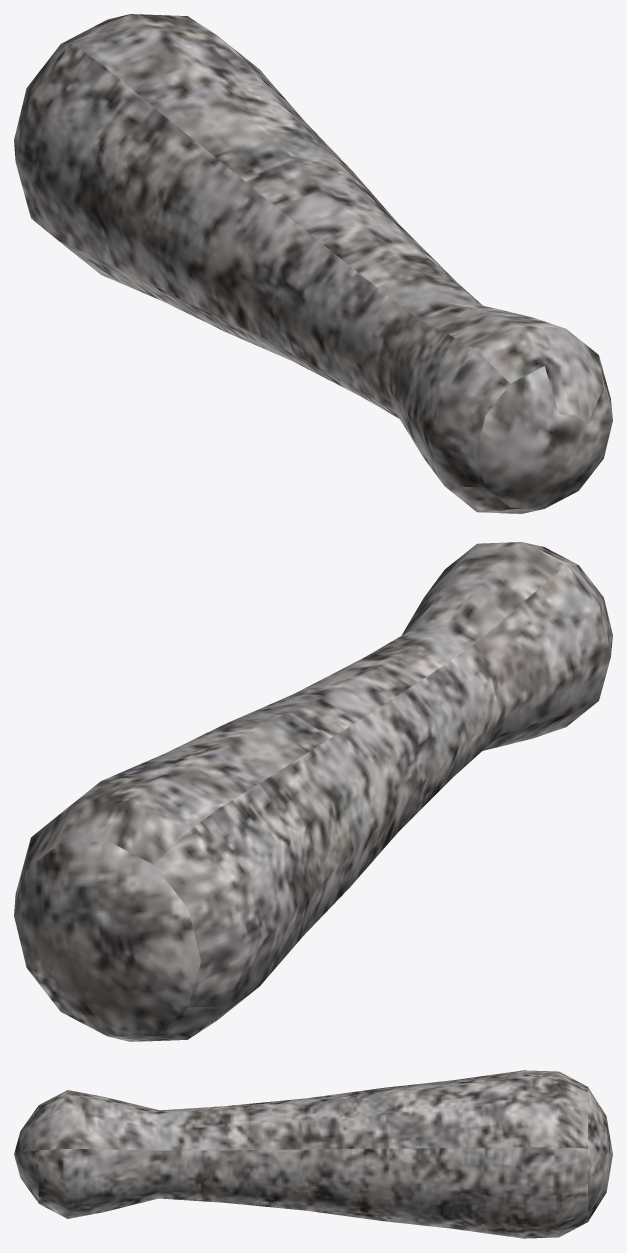
File: m_pestle.fbx
3 renders of one model, top to bottom at view 1: azimuth 30°, elevation 25°; view 2: azimuth 150°, elevation 25°; view 3: azimuth 270°, elevation 25°, orthographic. The views are drawn at different scales.
Parts seen in each view (by area): view 1: Pestle; view 2: Pestle; view 3: Pestle.
Part boxes in pixels (x1=…): Pestle: x1=14, y1=14, x2=612, y2=513; Pestle: x1=14, y1=542, x2=612, y2=1041; Pestle: x1=14, y1=1070, x2=612, y2=1238.
Size of the model in its own units: 10.62 by 10.62 by 37.67.
